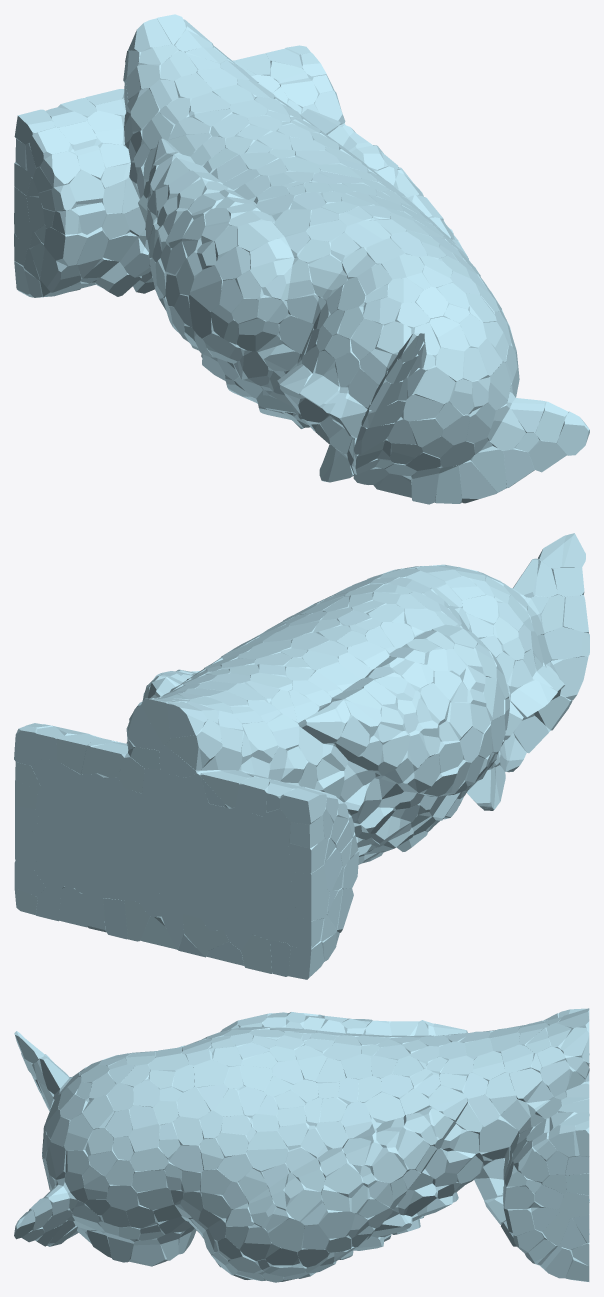
File: mesh_owl_voromesh.glb
3 views of the same model, one above another, from view 1: azimuth 30°, elevation 25°; view 2: azimuth 150°, elevation 25°; view 3: azimuth 270°, elevation 25° (orthographic). The views are drawn at different scales.
Visible parts, largest first — view 1: 59052_voromesh; view 2: 59052_voromesh; view 3: 59052_voromesh.
Boxes of the visible parts, box(x1,y1,x2,y2) form: 59052_voromesh: box(14, 14, 589, 504); 59052_voromesh: box(14, 533, 589, 979); 59052_voromesh: box(14, 1008, 589, 1282).
Bounding box in the file's own units: 0.9283 × 0.8322 × 1.8.
